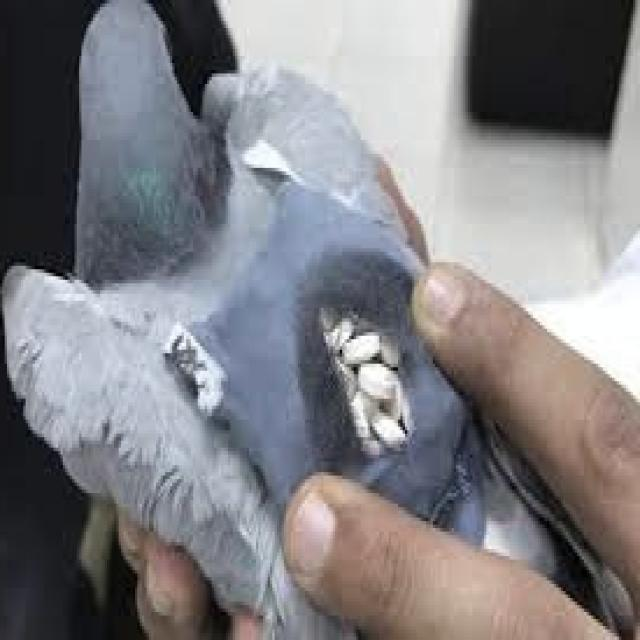pigeon: (2, 0, 570, 637)
